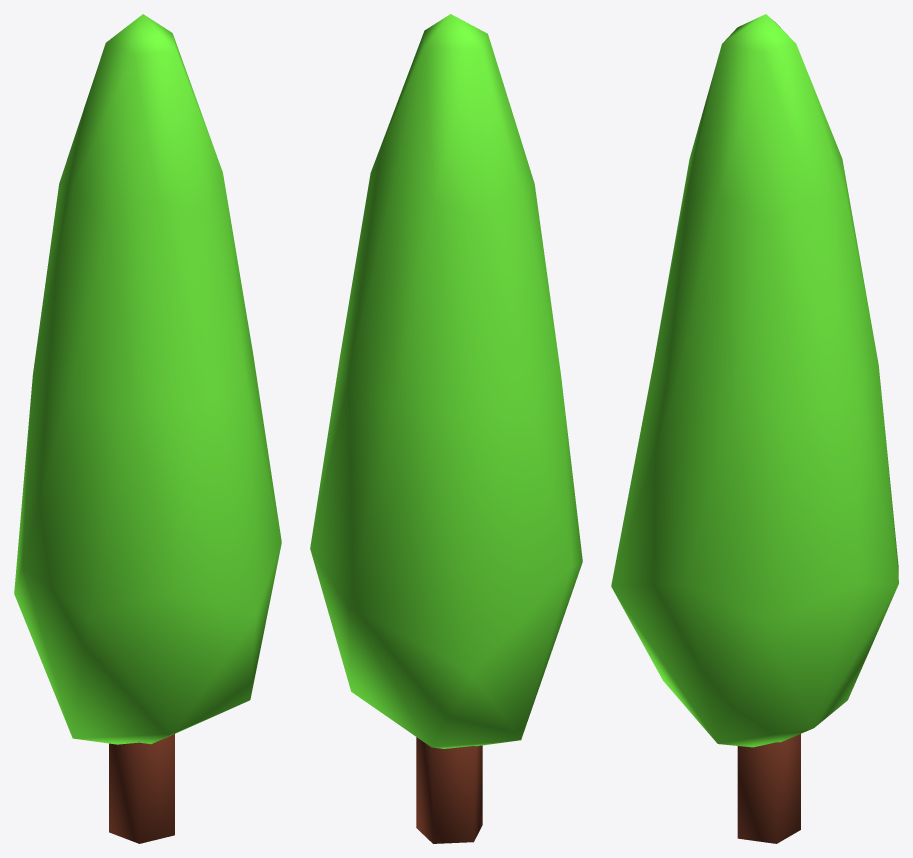
Rendered from Pine3.fbx.
The picture shows the model from 3 angles, left to right: view 1: azimuth 30°, elevation 25°; view 2: azimuth 150°, elevation 25°; view 3: azimuth 270°, elevation 25°; orthographic projection.
Parts seen in each view (by area): view 1: Cylinder; view 2: Cylinder; view 3: Cylinder.
Boxes of the visible parts, x1=… form: Cylinder: x1=14, y1=14, x2=281, y2=843; Cylinder: x1=310, y1=14, x2=582, y2=843; Cylinder: x1=611, y1=14, x2=898, y2=843.
Size of the model in its own units: 126 by 418 by 133.
